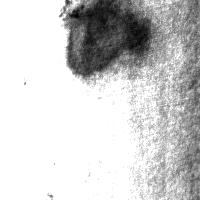patches: (64, 0, 156, 86), (66, 1, 150, 75)
